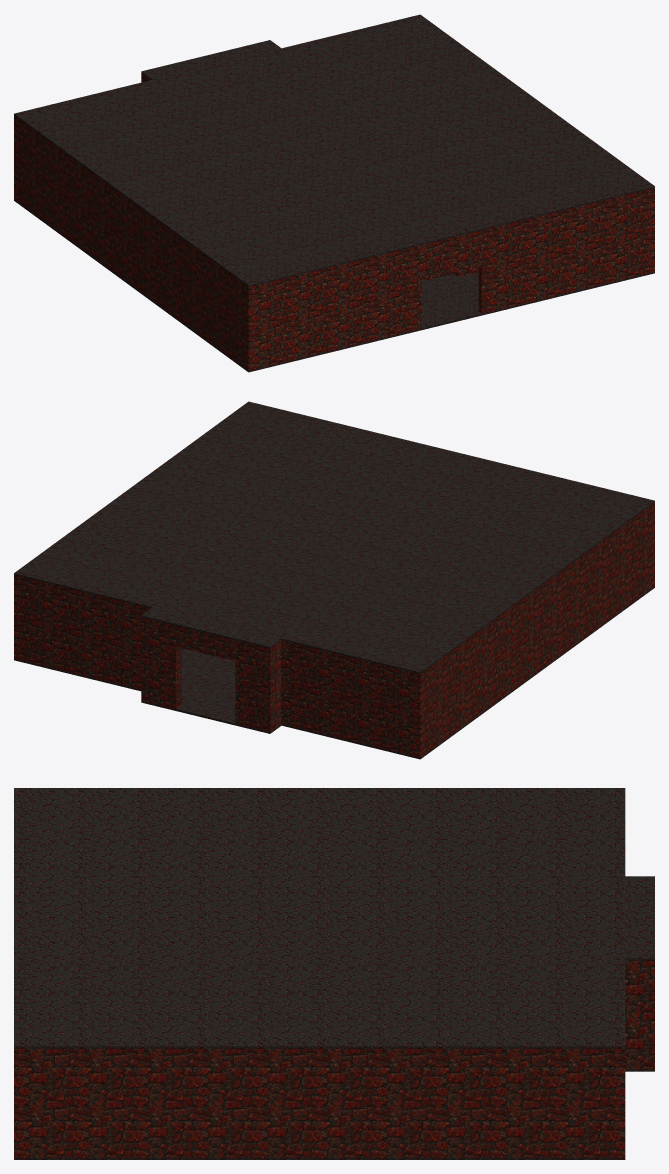
Rendered from room_gate.glb.
3 views of the same model, one above another, from view 1: azimuth 30°, elevation 25°; view 2: azimuth 150°, elevation 25°; view 3: azimuth 270°, elevation 25° (orthographic). The views are drawn at different scales.
Parts seen in each view (by area): view 1: Geo_Ceiling.003, Geo_Wall_W, Geo_Wall_S_L.003, Geo_Wall_S_R.003, Geo_Floor.003, Geo_Wall_S_Lintel.003, Geo_Tambour_Ceiling; view 2: Geo_Ceiling.003, Geo_Wall_W, Geo_Wall_N_L.003, Geo_Wall_N_R.003, Geo_Floor.003, Geo_Tambour_2, Geo_Tambour_2.001, Geo_Tambour_Ceiling, Geo_Tambour_Exit_Header, Geo_Tambour_Floor; view 3: Geo_Ceiling.003, Geo_Wall_E, Geo_Tambour_Ceiling, Geo_Floor.003, Geo_Tambour_1.001, Geo_Tambour_2.001, Geo_Wall_N_R.003, Geo_Wall_S_R.003.
Part boxes in pixels (left/top/right/bottom): Geo_Ceiling.003: left=14, top=14, right=654, bottom=287; Geo_Wall_W: left=17, top=118, right=245, bottom=367; Geo_Wall_S_L.003: left=245, top=245, right=421, bottom=370; Geo_Wall_S_R.003: left=478, top=188, right=654, bottom=313; Geo_Floor.003: left=14, top=199, right=654, bottom=372; Geo_Wall_S_Lintel.003: left=422, top=230, right=481, bottom=281; Geo_Tambour_Ceiling: left=141, top=40, right=280, bottom=80; Geo_Ceiling.003: left=14, top=401, right=654, bottom=674; Geo_Wall_W: left=423, top=505, right=651, bottom=754; Geo_Wall_N_L.003: left=281, top=640, right=423, bottom=757; Geo_Wall_N_R.003: left=14, top=575, right=149, bottom=688; Geo_Floor.003: left=14, top=586, right=654, bottom=759; Geo_Tambour_2: left=235, top=640, right=275, bottom=731; Geo_Tambour_2.001: left=141, top=617, right=181, bottom=708; Geo_Tambour_Ceiling: left=141, top=607, right=281, bottom=648; Geo_Tambour_Exit_Header: left=176, top=626, right=235, bottom=660; Geo_Tambour_Floor: left=141, top=699, right=281, bottom=733; Geo_Ceiling.003: left=14, top=788, right=625, bottom=1048; Geo_Wall_E: left=21, top=1049, right=617, bottom=1157; Geo_Tambour_Ceiling: left=625, top=876, right=654, bottom=960; Geo_Floor.003: left=14, top=1157, right=625, bottom=1159; Geo_Tambour_1.001: left=625, top=961, right=639, bottom=1068; Geo_Tambour_2.001: left=640, top=961, right=654, bottom=1068; Geo_Wall_N_R.003: left=617, top=1049, right=625, bottom=1157; Geo_Wall_S_R.003: left=14, top=1049, right=21, bottom=1157.
Size of the model in its own units: 41 by 8.4 by 43.
5 materials, 5 textured.
